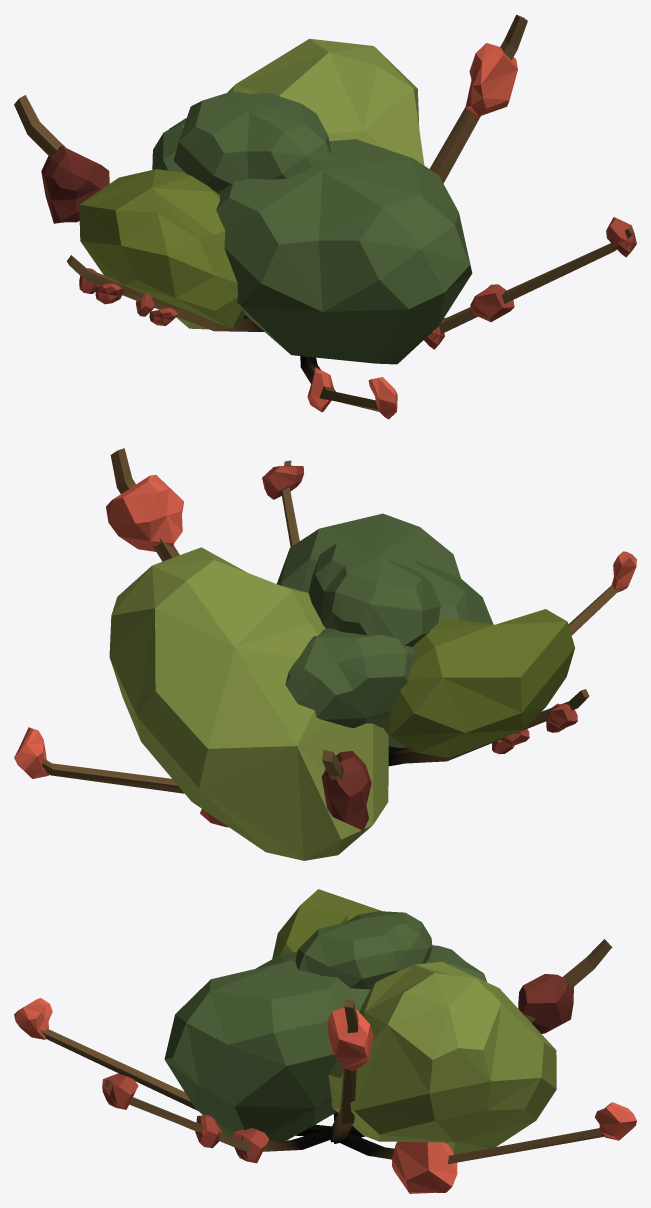
The model's file is EA03_Nature_Bush_03b.glb.
The picture shows the model from 3 angles, top to bottom: view 1: azimuth 30°, elevation 25°; view 2: azimuth 150°, elevation 25°; view 3: azimuth 270°, elevation 25°; orthographic projection. The views are drawn at different scales.
Visible parts, largest first — view 1: EA03_Nature_Bush_03b; view 2: EA03_Nature_Bush_03b; view 3: EA03_Nature_Bush_03b.
Boxes of the visible parts, <box> form: EA03_Nature_Bush_03b: <box>14,14,636,419</box>; EA03_Nature_Bush_03b: <box>14,448,636,860</box>; EA03_Nature_Bush_03b: <box>14,889,636,1193</box>.
Size of the model in its own units: 2.56 by 1.59 by 3.41.
Materials: 1 (1 with a texture image).
